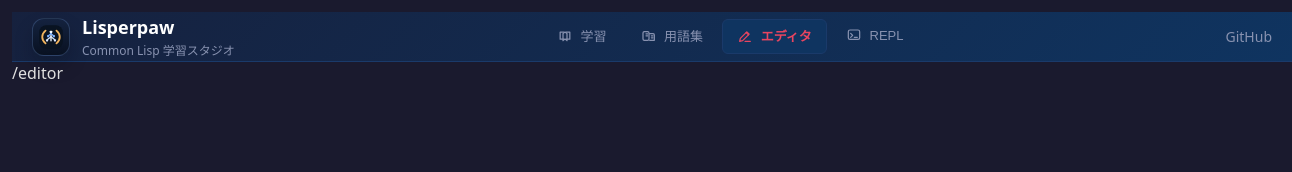
Test: Header › 学習ボタンをクリックすると問題一覧へ移動する
Click the button "学習".
click(582, 37)  # box [542,19,621,54]
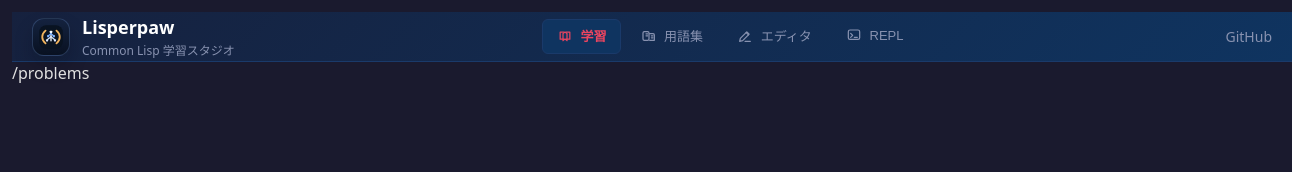
Check: the text with test id "location-path" reads "/problems", box [12,62,89,84]
